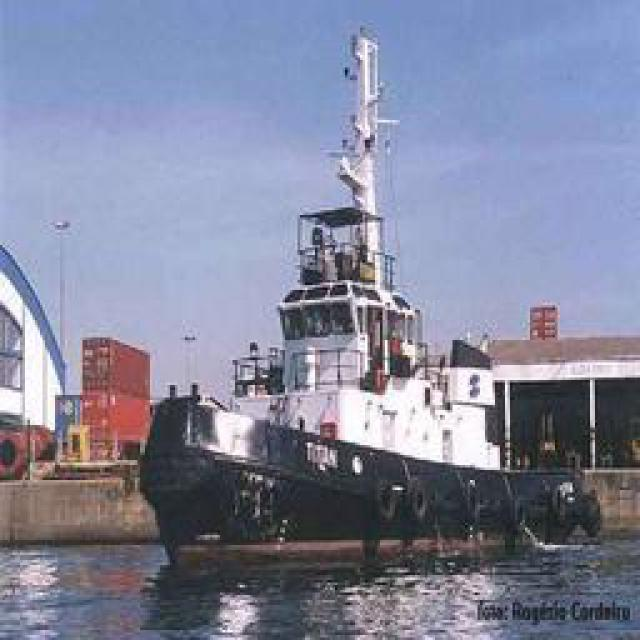Ship: (149, 12, 572, 565)
